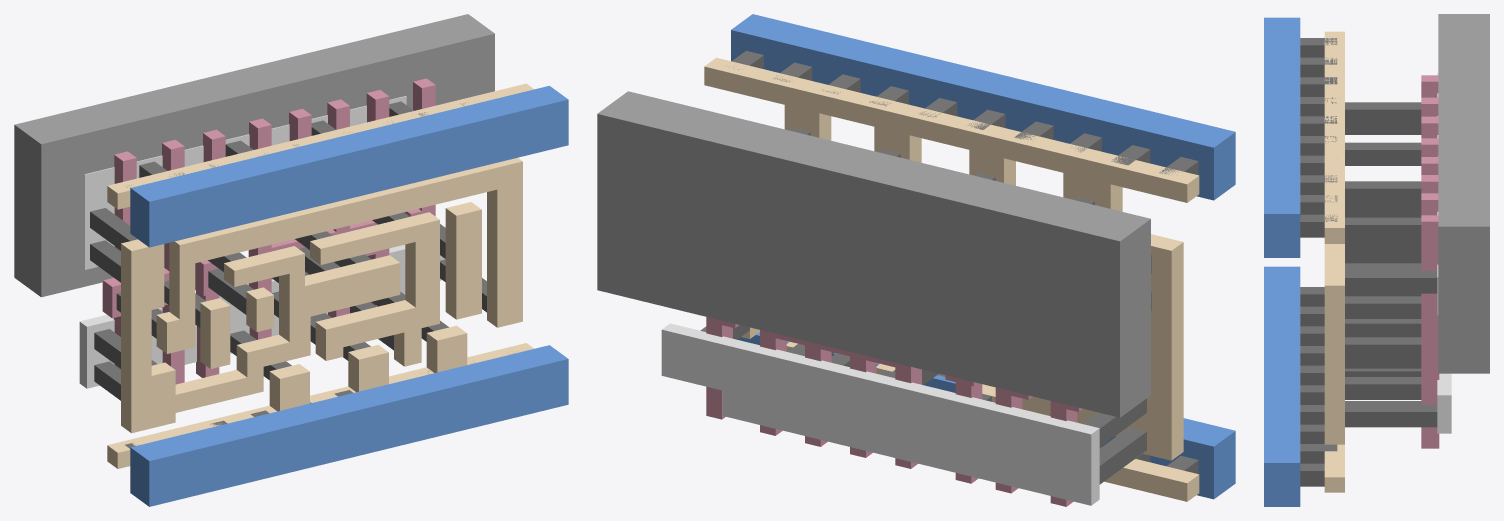
Rendered from sky130_fd_sc_hd__and3b_4.gds.gltf.
The picture shows the model from 3 angles, left to right: view 1: azimuth 30°, elevation 25°; view 2: azimuth 150°, elevation 25°; view 3: azimuth 270°, elevation 25°; orthographic projection. The views are drawn at different scales.
Parts seen in each view (by area): view 1: sky130_fd_sc_hd__and3b_4_li1, sky130_fd_sc_hd__and3b_4_met1, sky130_fd_sc_hd__and3b_4_nwell, sky130_fd_sc_hd__and3b_4_licon, sky130_fd_sc_hd__and3b_4_poly, sky130_fd_sc_hd__and3b_4_diff; view 2: sky130_fd_sc_hd__and3b_4_nwell, sky130_fd_sc_hd__and3b_4_diff, sky130_fd_sc_hd__and3b_4_li1, sky130_fd_sc_hd__and3b_4_met1, sky130_fd_sc_hd__and3b_4_poly, sky130_fd_sc_hd__and3b_4_mcon, sky130_fd_sc_hd__and3b_4_licon; view 3: sky130_fd_sc_hd__and3b_4_licon, sky130_fd_sc_hd__and3b_4_nwell, sky130_fd_sc_hd__and3b_4_met1, sky130_fd_sc_hd__and3b_4_mcon, sky130_fd_sc_hd__and3b_4_li1, sky130_fd_sc_hd__and3b_4_poly, sky130_fd_sc_hd__and3b_4_diff.
Part boxes in pixels (x1,y1,x2,y2): sky130_fd_sc_hd__and3b_4_li1: (107, 83, 533, 468); sky130_fd_sc_hd__and3b_4_met1: (130, 85, 568, 506); sky130_fd_sc_hd__and3b_4_nwell: (14, 14, 494, 297); sky130_fd_sc_hd__and3b_4_licon: (90, 101, 486, 400); sky130_fd_sc_hd__and3b_4_poly: (102, 78, 435, 384); sky130_fd_sc_hd__and3b_4_diff: (79, 96, 445, 388); sky130_fd_sc_hd__and3b_4_nwell: (597, 91, 1150, 417); sky130_fd_sc_hd__and3b_4_diff: (661, 323, 1099, 505); sky130_fd_sc_hd__and3b_4_li1: (704, 57, 1199, 501); sky130_fd_sc_hd__and3b_4_met1: (731, 14, 1235, 499); sky130_fd_sc_hd__and3b_4_poly: (706, 317, 1082, 506); sky130_fd_sc_hd__and3b_4_mcon: (726, 50, 1198, 473); sky130_fd_sc_hd__and3b_4_licon: (700, 128, 1151, 484); sky130_fd_sc_hd__and3b_4_licon: (1345, 102, 1437, 427); sky130_fd_sc_hd__and3b_4_nwell: (1438, 14, 1489, 373); sky130_fd_sc_hd__and3b_4_met1: (1264, 17, 1300, 506); sky130_fd_sc_hd__and3b_4_mcon: (1300, 38, 1337, 486); sky130_fd_sc_hd__and3b_4_li1: (1324, 31, 1344, 492); sky130_fd_sc_hd__and3b_4_poly: (1421, 75, 1439, 448); sky130_fd_sc_hd__and3b_4_diff: (1437, 73, 1451, 433).
Bounding box in the file's own units: 4.98 × 3.2 × 2.24.
